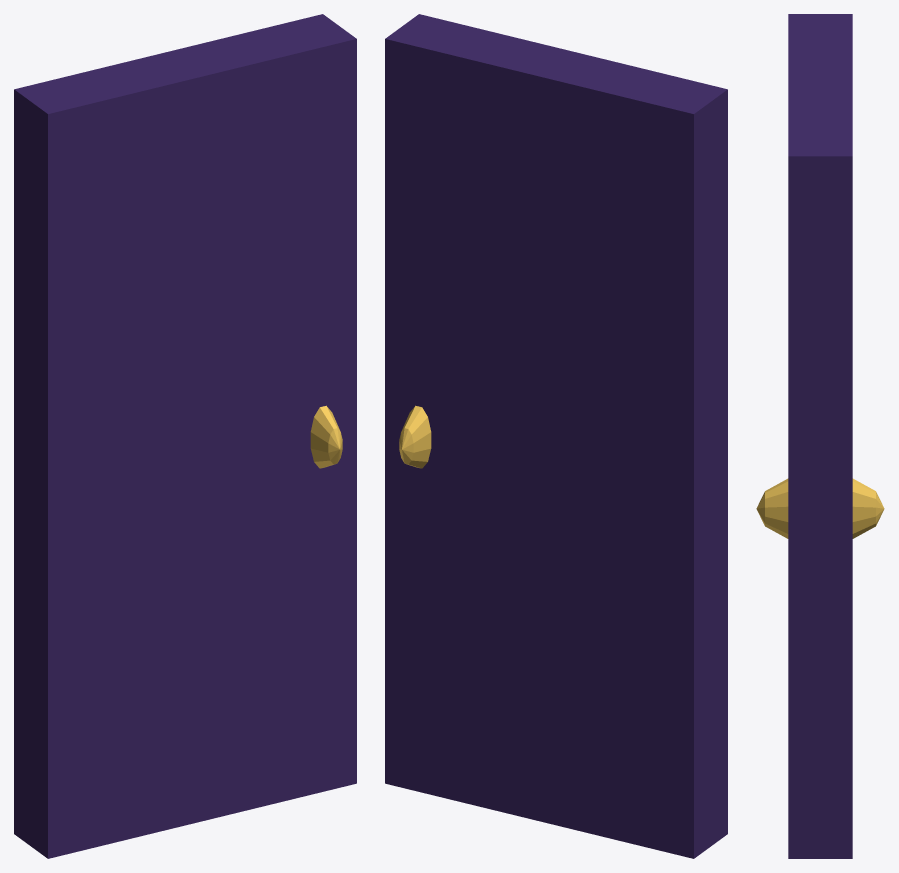
The model's file is Porta.obj.
The picture shows the model from 3 angles, left to right: view 1: azimuth 30°, elevation 25°; view 2: azimuth 150°, elevation 25°; view 3: azimuth 270°, elevation 25°; orthographic projection. The views are drawn at different scales.
Visible parts, largest first — view 1: porta; view 2: porta; view 3: porta.
Boxes of the visible parts, bbox=[...] form: porta: bbox=[14, 14, 356, 858]; porta: bbox=[385, 14, 727, 858]; porta: bbox=[756, 14, 884, 858].
Size of the model in its own units: 0.6562 by 1.51 by 0.25.
3 materials, 2 textured.
